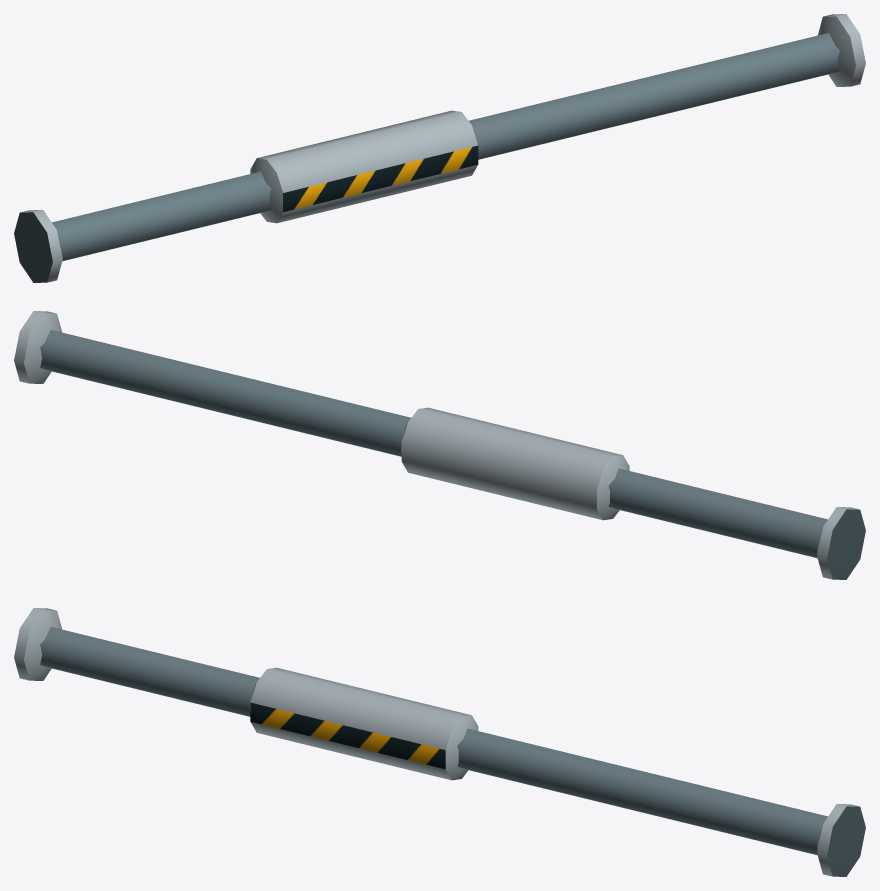
File: Pipe_004.glb
The picture shows the model from 3 angles, top to bottom: view 1: azimuth 30°, elevation 25°; view 2: azimuth 150°, elevation 25°; view 3: azimuth 330°, elevation 25°; orthographic projection.
Visible parts, largest first — view 1: Pipe_004; view 2: Pipe_004; view 3: Pipe_004.
Part boxes in pixels (<box>): Pipe_004: <box>14,14,865,282</box>; Pipe_004: <box>14,311,865,579</box>; Pipe_004: <box>14,608,865,876</box>.
Bounding box in the file's own units: 3.07 × 0.255 × 0.255.
1 material, 1 textured.
